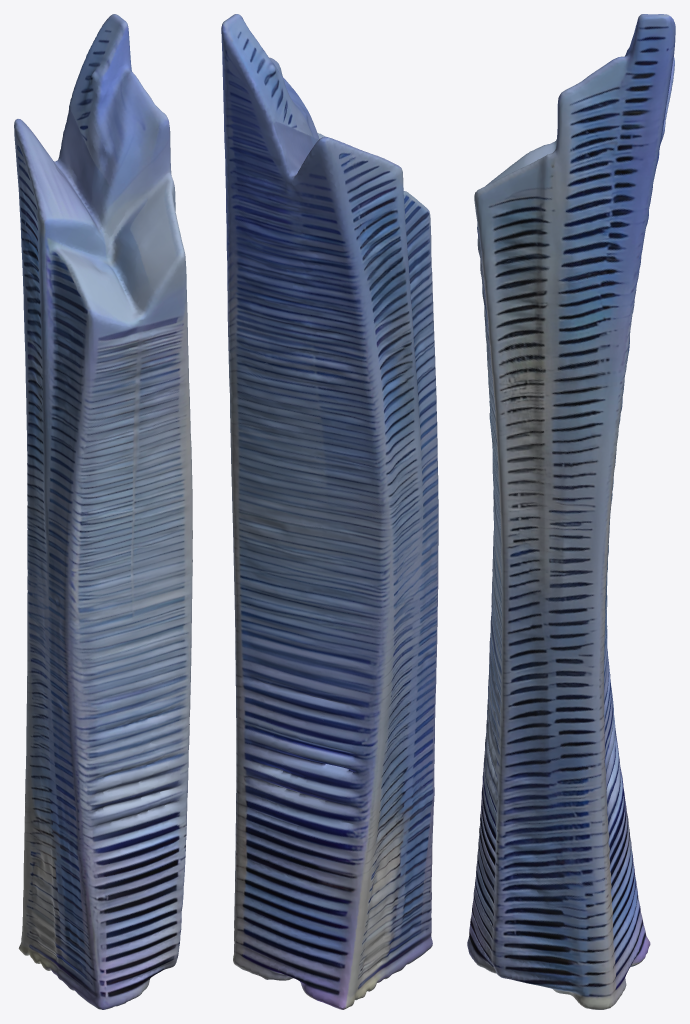
Rendered from dubai_skyscraper.glb.
The picture shows the model from 3 angles, left to right: view 1: azimuth 30°, elevation 25°; view 2: azimuth 150°, elevation 25°; view 3: azimuth 270°, elevation 25°; orthographic projection. The views are drawn at different scales.
Visible parts, largest first — view 1: tripo_node_3ca4469b-04c7-4a96-8401-781f927d51e9_0; view 2: tripo_node_3ca4469b-04c7-4a96-8401-781f927d51e9_0; view 3: tripo_node_3ca4469b-04c7-4a96-8401-781f927d51e9_0.
Boxes of the visible parts, x1,y1,x2,y2 form: tripo_node_3ca4469b-04c7-4a96-8401-781f927d51e9_0: (14,14,192,1009); tripo_node_3ca4469b-04c7-4a96-8401-781f927d51e9_0: (221,14,438,1009); tripo_node_3ca4469b-04c7-4a96-8401-781f927d51e9_0: (467,14,675,1009).
Bounding box in the file's own units: 0.1639 × 0.9481 × 0.1816.
1 material, 1 textured.
